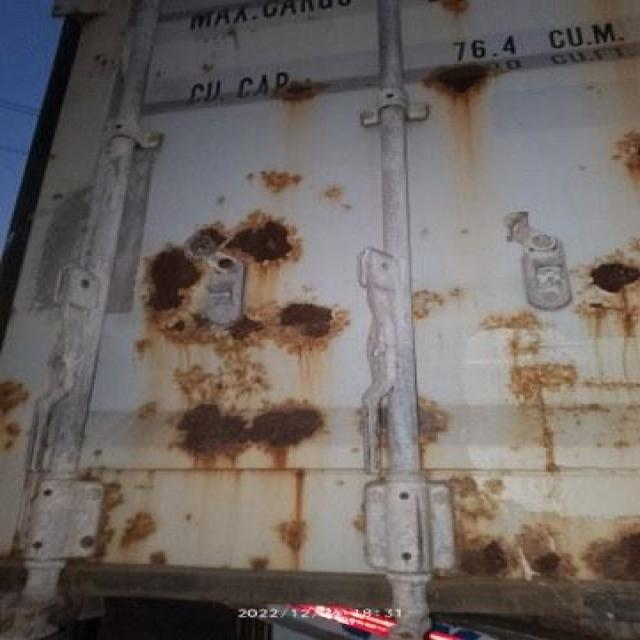Rust: (197, 415, 323, 461), (155, 228, 208, 317), (467, 532, 525, 583), (595, 527, 640, 578), (432, 69, 494, 103), (580, 263, 640, 297), (289, 303, 339, 342), (275, 79, 329, 102), (226, 230, 294, 248)
